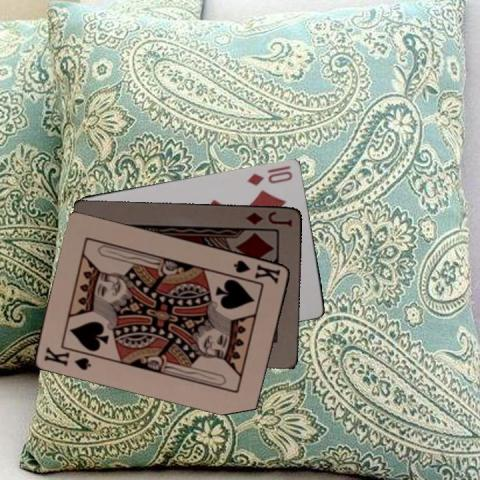10d: (245, 168, 294, 188)
Jd: (243, 208, 294, 228)
Ks: (231, 256, 282, 284), (42, 344, 94, 371)
